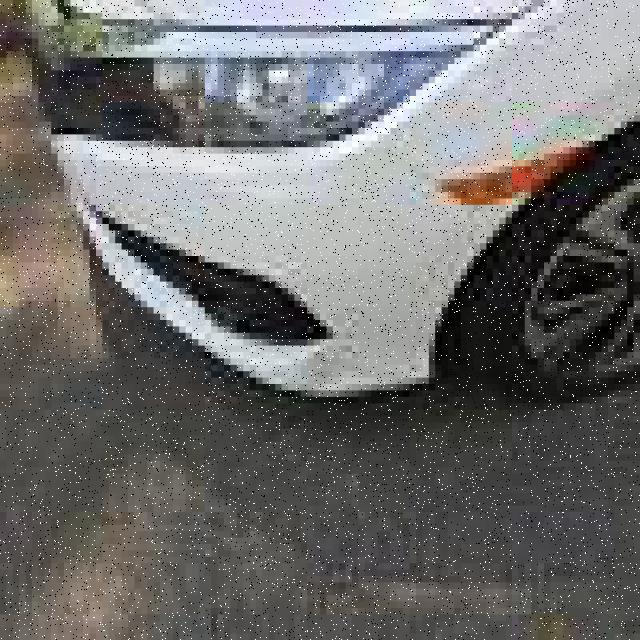front-bumper-dent: (45, 141, 474, 416)
